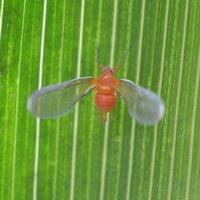insect: (27, 65, 164, 124)
